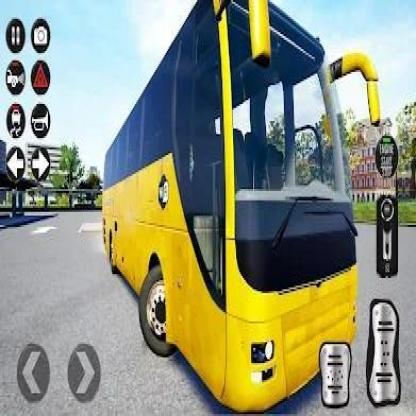Bus: (94, 0, 382, 416)
